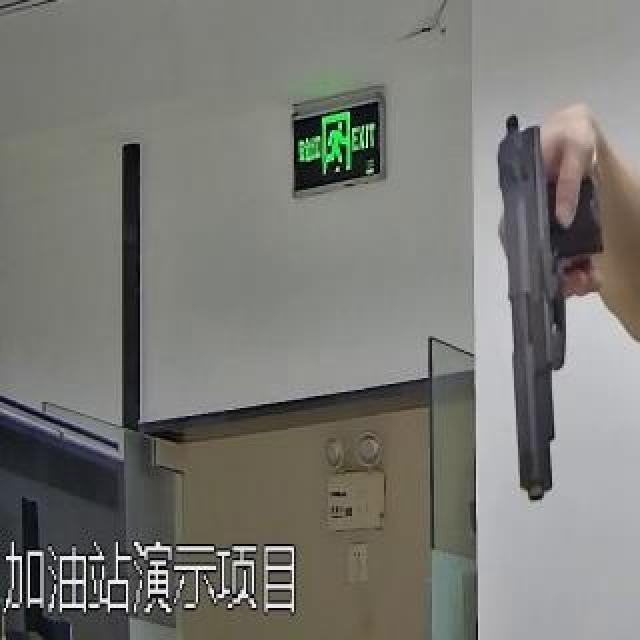Guns: (472, 92, 640, 510)
